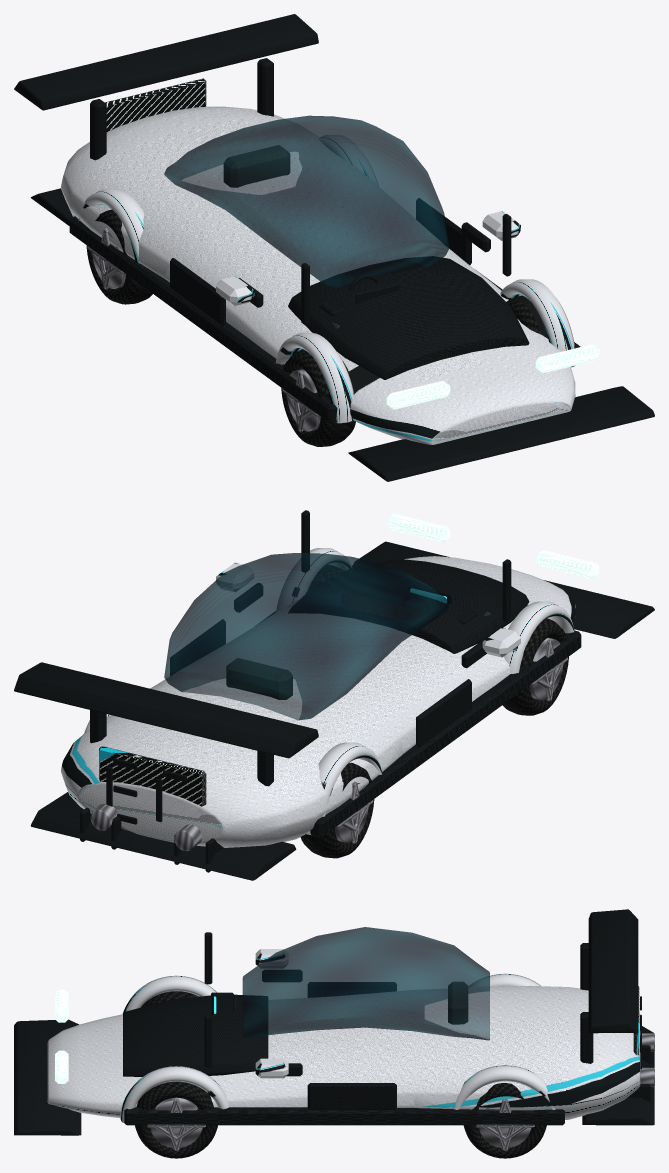
Rendered from car-gt.glb.
The picture shows the model from 3 angles, top to bottom: view 1: azimuth 30°, elevation 25°; view 2: azimuth 150°, elevation 25°; view 3: azimuth 270°, elevation 25°; orthographic projection. The views are drawn at different scales.
Visible parts, largest first — view 1: COCKPIT_HIDE_GT_BODY_SHELL, COCKPIT_HIDE_GT_CABIN, COCKPIT_HIDE_GT_HOOD_COWL, GT_REAR_WING_AUTHORED, GT_FRONT_SPLITTER, GT_SIDE_SKIRT, GT_NUMBER_PANEL, COCKPIT_HIDE_GT_FRONT_FENDER_L, FL_TYRE, COCKPIT_HIDE_GT_FRONT_FENDER_R, GT_HEADREST, GT_SIDE_INTAKE (+11 smaller); view 2: COCKPIT_HIDE_GT_BODY_SHELL, COCKPIT_HIDE_GT_CABIN, COCKPIT_HIDE_GT_HOOD_COWL, GT_REAR_WING_AUTHORED, GT_DIFFUSER_PLANE, GT_SIDE_SKIRT, GT_FRONT_SPLITTER, GT_NUMBER_PANEL, GT_HEADREST, FL_TYRE, GT_SIDE_INTAKE, COCKPIT_HIDE_GT_FRONT_FENDER_L (+13 smaller); view 3: COCKPIT_HIDE_GT_BODY_SHELL, COCKPIT_HIDE_GT_CABIN, COCKPIT_HIDE_GT_HOOD_COWL, GT_SIDE_SKIRT.001, GT_REAR_WING_AUTHORED, GT_FRONT_SPLITTER, FR_TYRE, GT_SIDE_INTAKE.001, COCKPIT_HIDE_GT_FRONT_FENDER_R, GT_DIFFUSER_PLANE, RR_TYRE, COCKPIT_HIDE_GT_REAR_FENDER_R (+16 smaller).
Boxes of the visible parts, x1,y1,x2,y2 form: COCKPIT_HIDE_GT_BODY_SHELL: (61,106,575,444); COCKPIT_HIDE_GT_CABIN: (164,115,449,287); COCKPIT_HIDE_GT_HOOD_COWL: (288,256,529,379); GT_REAR_WING_AUTHORED: (14,14,318,110); GT_FRONT_SPLITTER: (348,386,654,481); GT_SIDE_SKIRT: (69,216,337,423); GT_NUMBER_PANEL: (105,78,206,131); COCKPIT_HIDE_GT_FRONT_FENDER_L: (275,332,353,423); FL_TYRE: (281,349,355,446); COCKPIT_HIDE_GT_FRONT_FENDER_R: (500,279,575,367); GT_HEADREST: (223,145,290,187); GT_SIDE_INTAKE: (170,258,225,326); COCKPIT_HIDE_GT_BODY_SHELL: (61,556,575,847); COCKPIT_HIDE_GT_CABIN: (164,553,449,720); COCKPIT_HIDE_GT_HOOD_COWL: (288,559,529,653); GT_REAR_WING_AUTHORED: (14,662,318,758); GT_DIFFUSER_PLANE: (30,792,296,880); GT_SIDE_SKIRT: (310,630,581,837); GT_FRONT_SPLITTER: (352,541,654,638); GT_NUMBER_PANEL: (99,746,206,806); GT_HEADREST: (226,658,292,699); FL_TYRE: (502,618,568,715); GT_SIDE_INTAKE: (416,679,471,747); COCKPIT_HIDE_GT_FRONT_FENDER_L: (504,601,574,673); COCKPIT_HIDE_GT_BODY_SHELL: (47,985,640,1119); COCKPIT_HIDE_GT_CABIN: (242,927,489,1040); COCKPIT_HIDE_GT_HOOD_COWL: (123,994,268,1076); GT_SIDE_SKIRT.001: (124,1107,564,1125); GT_REAR_WING_AUTHORED: (588,909,638,1033); GT_FRONT_SPLITTER: (14,1019,81,1135); FR_TYRE: (135,1081,217,1158); GT_SIDE_INTAKE.001: (307,1083,396,1109); COCKPIT_HIDE_GT_FRONT_FENDER_R: (120,1066,228,1122); GT_DIFFUSER_PLANE: (582,1026,654,1125); RR_TYRE: (463,1083,546,1158); COCKPIT_HIDE_GT_REAR_FENDER_R: (454,1065,555,1109).
Bounding box in the file's own units: 2.23 × 1.43 × 5.03.
Materials: 13 (13 with a texture image).
